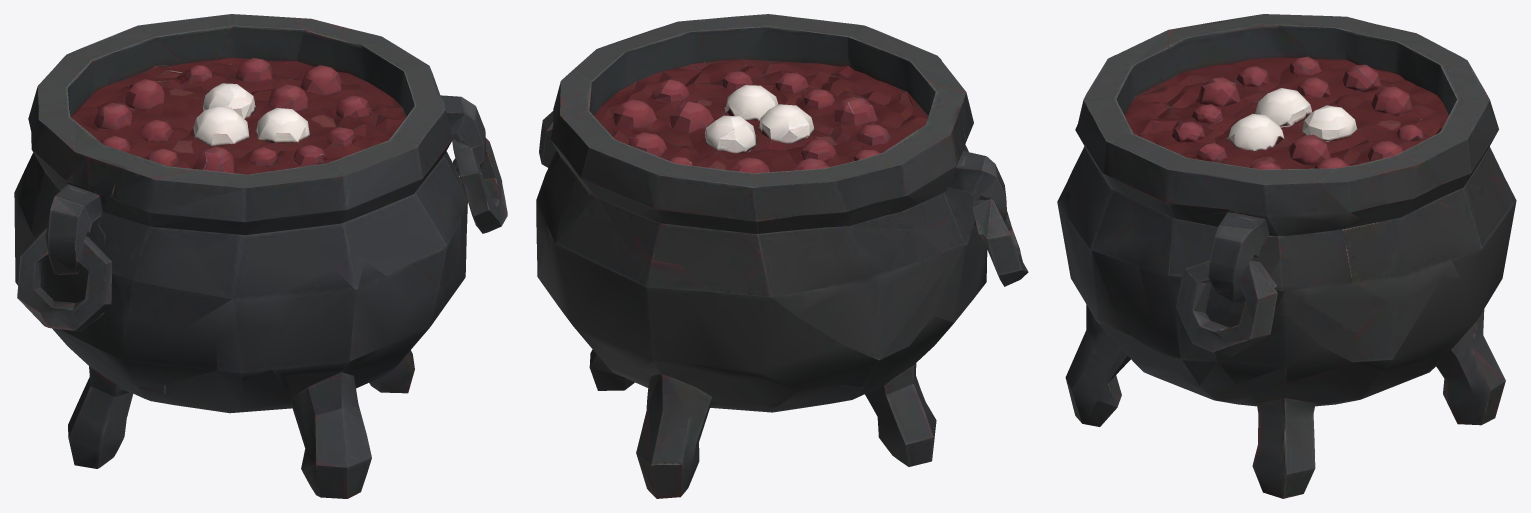
Rendered from cauldron.glb.
3 views of the same model, side by side, from view 1: azimuth 30°, elevation 25°; view 2: azimuth 150°, elevation 25°; view 3: azimuth 270°, elevation 25° (orthographic).
Visible parts, largest first — view 1: Mesh_0; view 2: Mesh_0; view 3: Mesh_0.
Boxes of the visible parts, x1,y1,x2,y2 form: Mesh_0: (14, 14, 507, 498); Mesh_0: (536, 14, 1028, 498); Mesh_0: (1057, 14, 1516, 498).
Bounding box in the file's own units: 2 × 1.29 × 1.66.
Materials: 1 (1 with a texture image).
